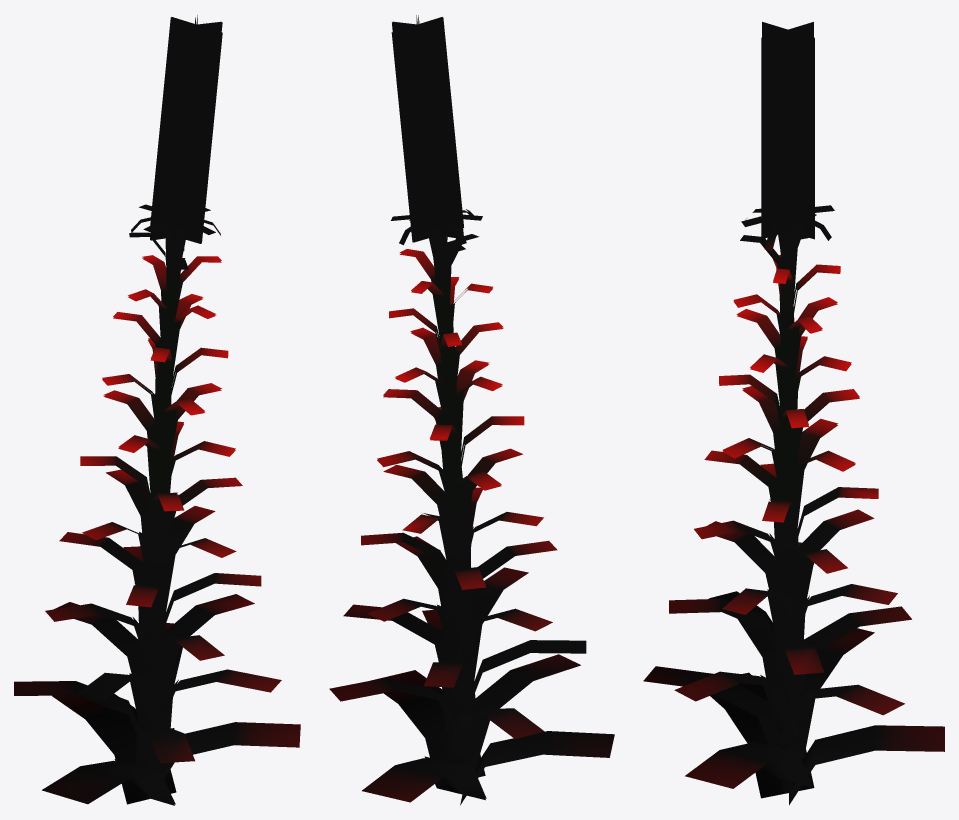
File: Flower03_high.FBX
3 renders of one model, left to right at view 1: azimuth 30°, elevation 25°; view 2: azimuth 150°, elevation 25°; view 3: azimuth 270°, elevation 25°, orthographic. The views are drawn at different scales.
Parts seen in each view (by area): view 1: Flower03_high; view 2: Flower03_high; view 3: Flower03_high.
Boxes of the visible parts, bbox=[...] form: Flower03_high: bbox=[14, 15, 300, 805]; Flower03_high: bbox=[329, 15, 614, 805]; Flower03_high: bbox=[643, 21, 944, 805].
Size of the model in its own units: 0.3101 by 0.9012 by 0.3124.
